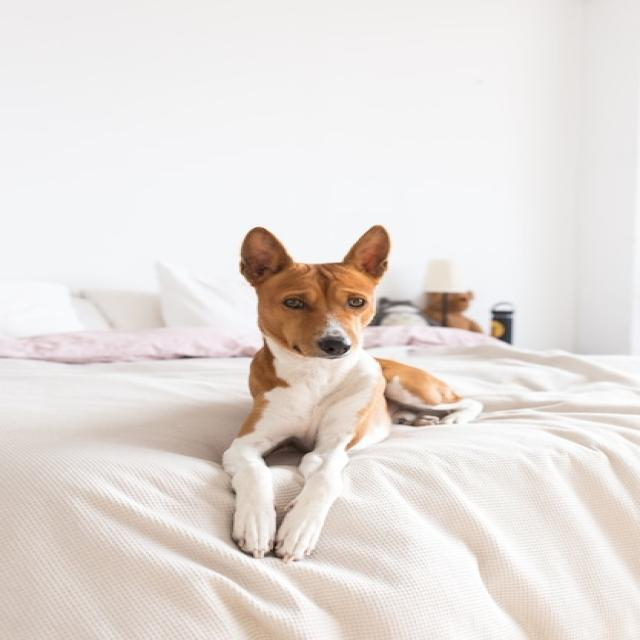Dog: (224, 224, 483, 562)
